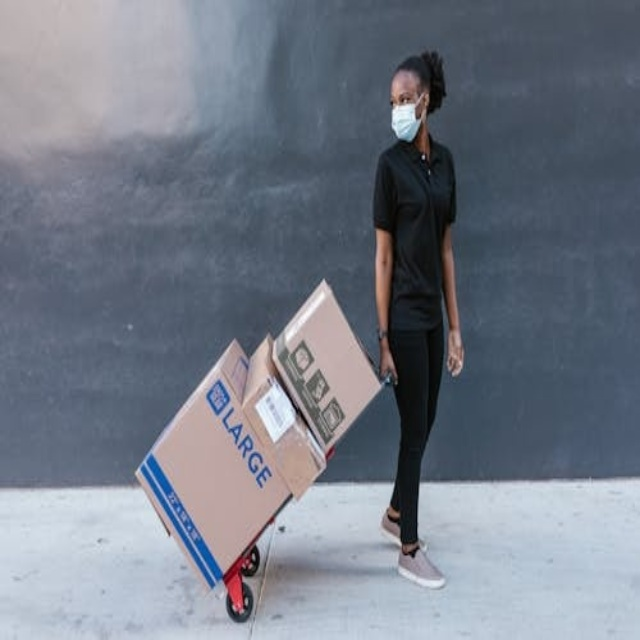Mascara: (391, 96, 425, 142)
Sin_gafas: (389, 88, 417, 106)
Sin_guantes: (374, 331, 399, 394), (446, 330, 464, 376)
